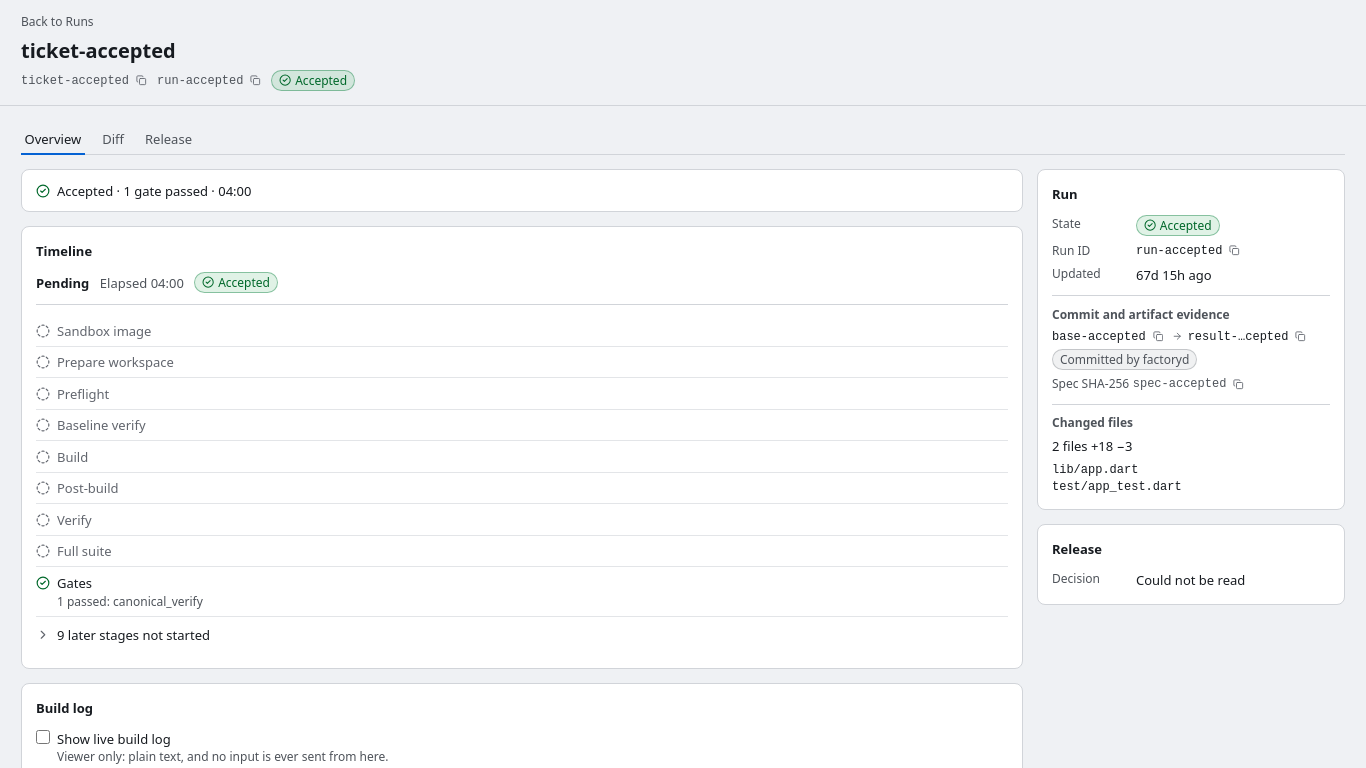
Test: live build log pane › toggling it on streams and renders the log as plain text
This screenshot has width=1366, height=768.
What coordinates should you click on to do the following:
click the switch labelled "Show live build log"
I would click on:
 (43, 737)
Its box is [36,730,50,744].
(page scrolled)
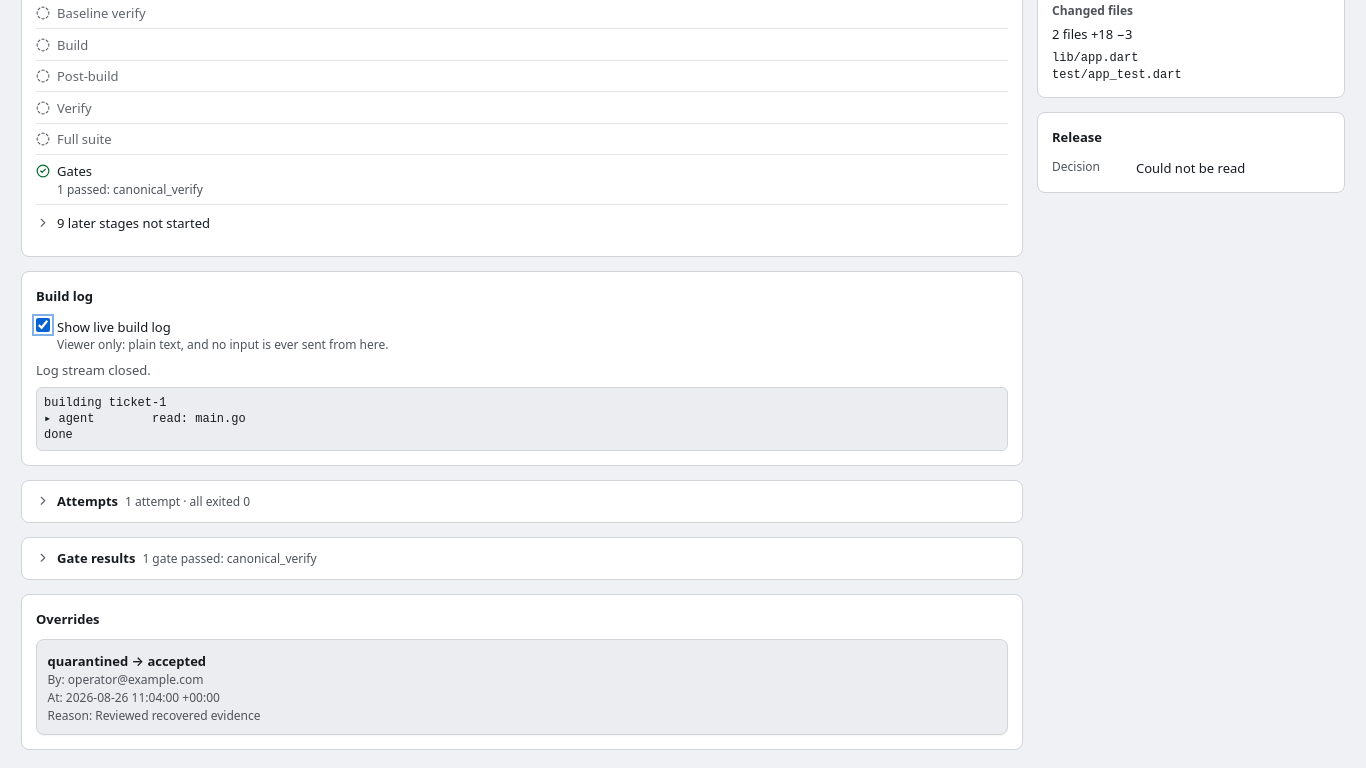
Check: the text named "Build log" shows "building ticket-1", box [44,396,246,442]
Check: the text named "Build log" shows "agent read: main.go", box [44,396,246,442]
